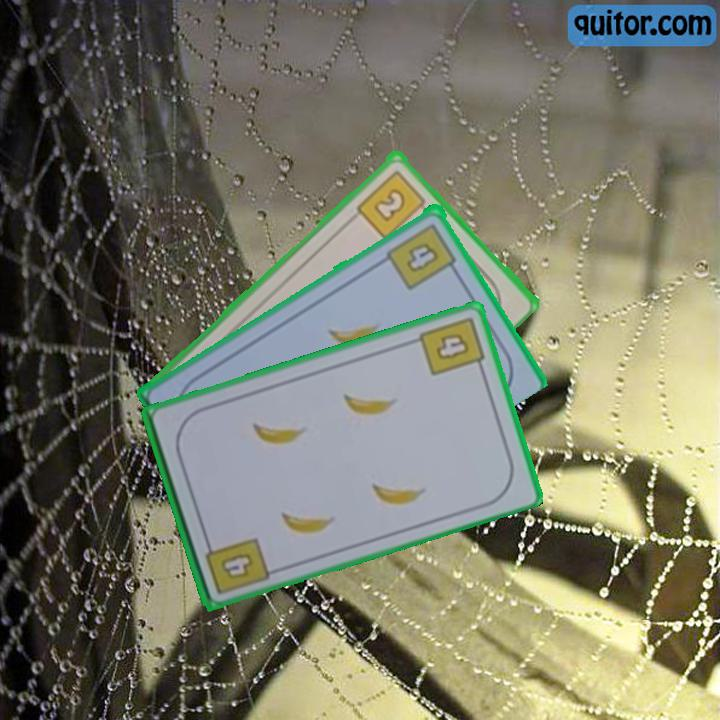2b: (353, 166, 433, 241)
4b: (383, 219, 461, 293), (415, 312, 488, 379), (201, 533, 272, 597)
